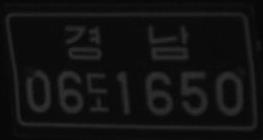0: (215, 70, 244, 117), (26, 69, 51, 114)
1: (112, 70, 136, 115)
5: (179, 70, 209, 117)
6: (144, 70, 174, 116), (56, 69, 84, 115)
경남_D: (63, 22, 190, 62)
도: (85, 71, 109, 112)
